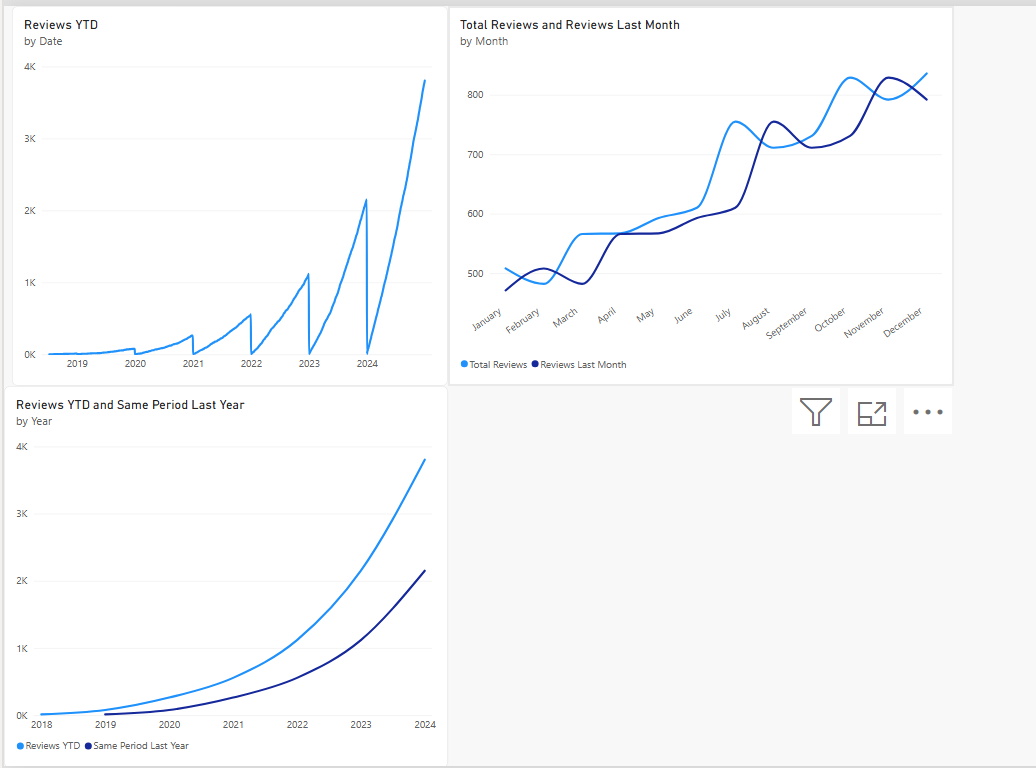

What the dashboard file says about the page in this screenshot:
{"tool":"powerbi","page":{"name":"Trend Analysis","canvas":[1920,1080],"ordinal":1},"visuals":[{"type":"lineChart","fields":{"Category":["dim_date.Date"],"Y":["reviews.Reviews YTD"]},"box":[11.4,0,619.2,539.6],"z":0},{"type":"lineChart","fields":{"Category":["dim_date.Date.Variation.Date Hierarchy.Year","dim_date.Date.Variation.Date Hierarchy.Quarter","dim_date.Date.Variation.Date Hierarchy.Month","dim_date.Date.Variation.Date Hierarchy.Day"],"Y":["reviews.Reviews YTD","reviews.Same Period Last Year"]},"box":[0,539.6,630.5,542.5],"z":1},{"type":"lineChart","fields":{"Category":["dim_date.Date.Variation.Date Hierarchy.Month"],"Y":["reviews.Total Reviews","reviews.Reviews Last Month"]},"box":[630.5,0,718.6,539.6],"z":2}]}

Visuals, with their boxes on the page's 1920x1080 design canvas (x1, y1, x2, y2). These are canvas units, not pixel positions in the 1036x768 screenshot, which may show the page scaled, cropped or inside an application window:
lineChart - dim_date.Date x reviews.Reviews YTD: <box>11,0,631,540</box>
lineChart - dim_date.Date.Variation.Date Hierarchy.Year x dim_date.Date.Variation.Date Hierarchy.Quarter: <box>0,540,630,1082</box>
lineChart - dim_date.Date.Variation.Date Hierarchy.Month x reviews.Total Reviews: <box>630,0,1349,540</box>
